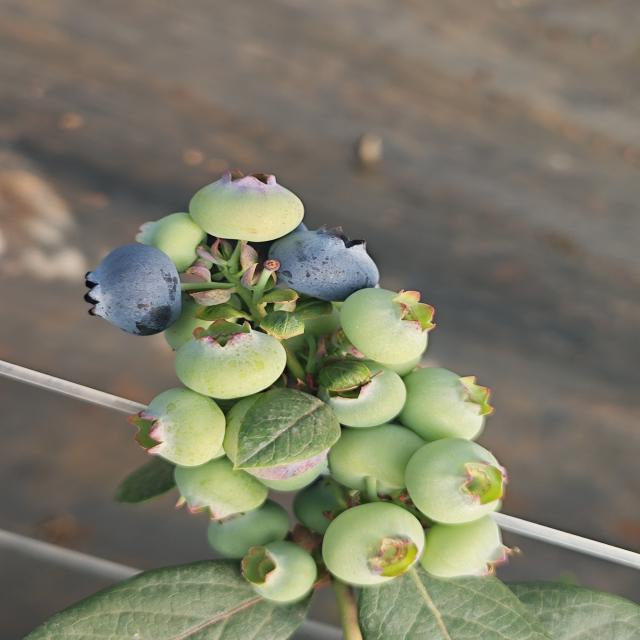ripe: (81, 242, 185, 338), (266, 225, 382, 302)
